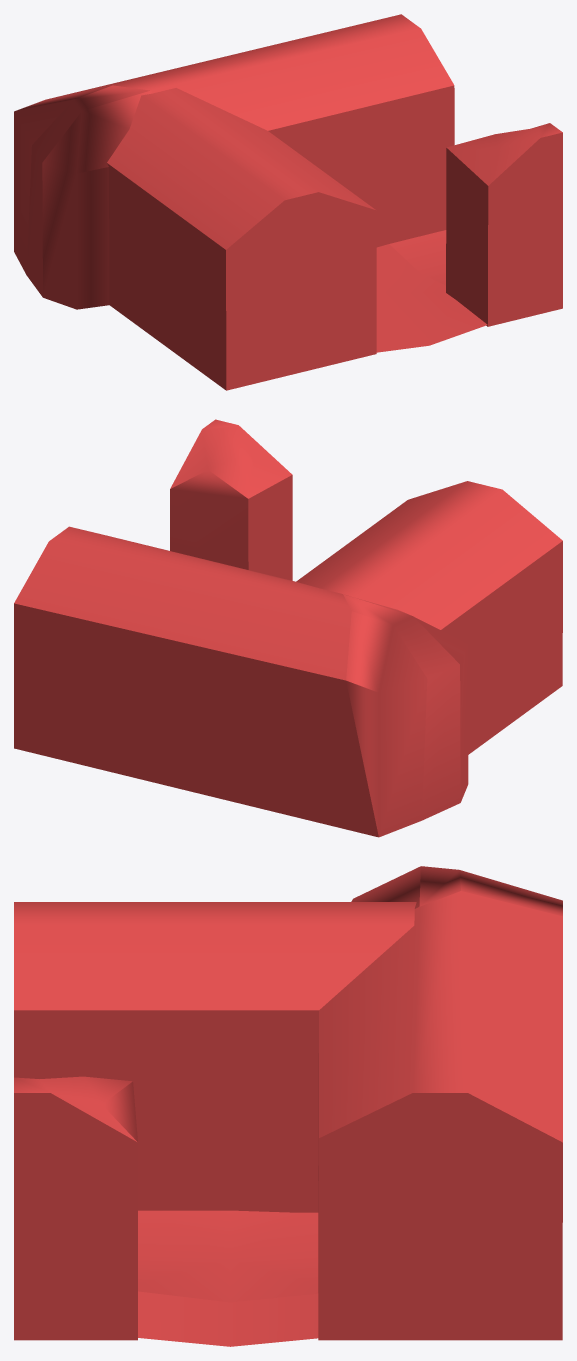
The model's file is Ground_90_Corner_Wood_COL.fbx.
3 views of the same model, one above another, from view 1: azimuth 30°, elevation 25°; view 2: azimuth 150°, elevation 25°; view 3: azimuth 270°, elevation 25° (orthographic). The views are drawn at different scales.
Parts seen in each view (by area): view 1: Ground_90_Corner_Wood_COL; view 2: Ground_90_Corner_Wood_COL; view 3: Ground_90_Corner_Wood_COL.
Part boxes in pixels (<box>): Ground_90_Corner_Wood_COL: <box>14,14,562,390</box>; Ground_90_Corner_Wood_COL: <box>14,419,562,837</box>; Ground_90_Corner_Wood_COL: <box>14,866,562,1346</box>.
Bounding box in the file's own units: 5.68 × 2.66 × 5.07.
